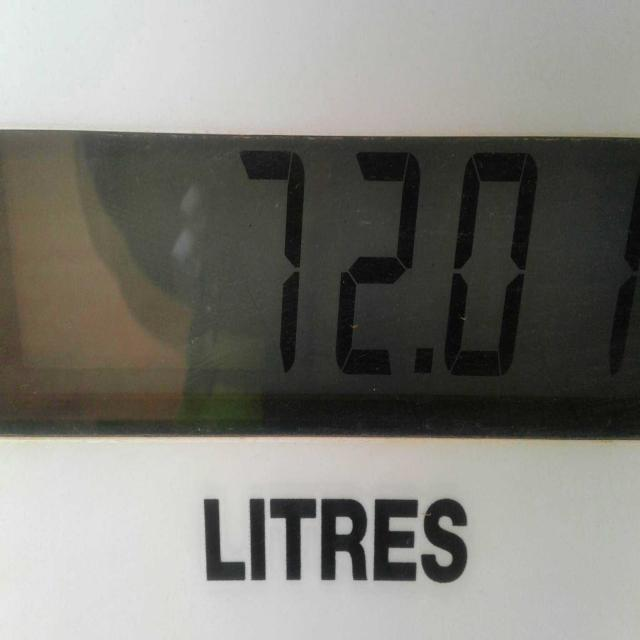.: (404, 315, 442, 394)
0: (442, 146, 564, 408), (227, 127, 313, 407)
1: (593, 163, 640, 400)
2: (332, 137, 418, 407)
